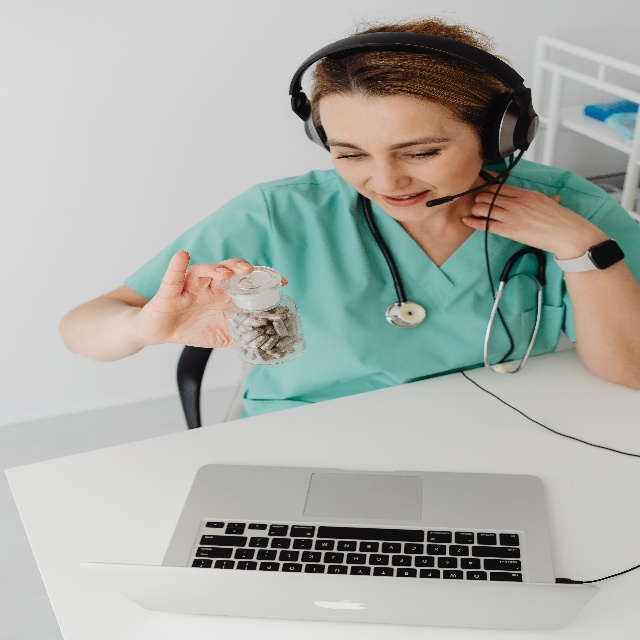Sin_guantes: (134, 250, 255, 348), (461, 184, 569, 252)
